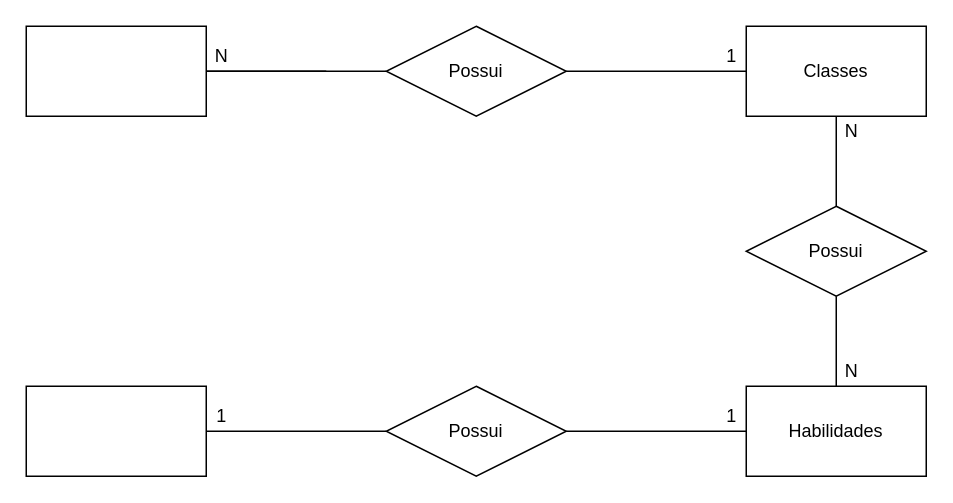
This 953x503 diagram has some shape labels left out. Here are the shapes that lost their labels. From the top down, the centre of each, then its label:
At point 115,70: "Personagen".
At point 115,430: "Tipo Habilidades".
